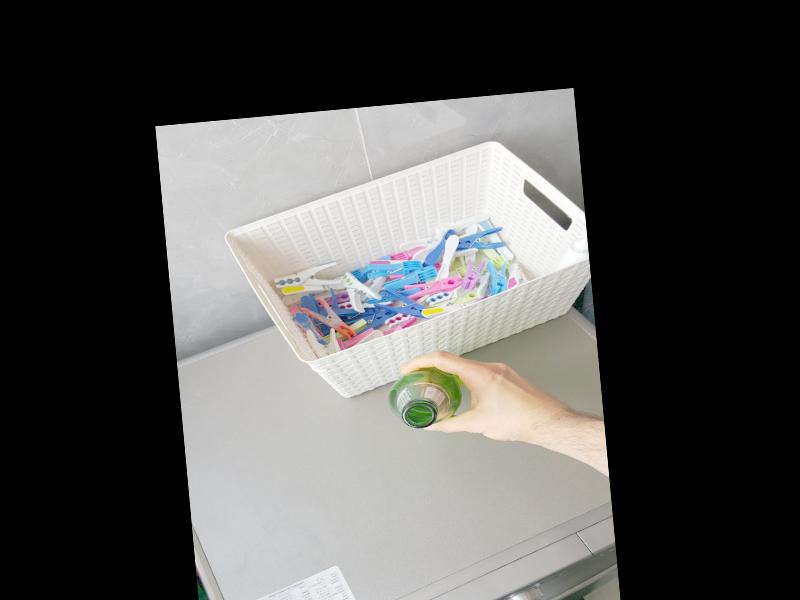Beer: (385, 364, 465, 432)
